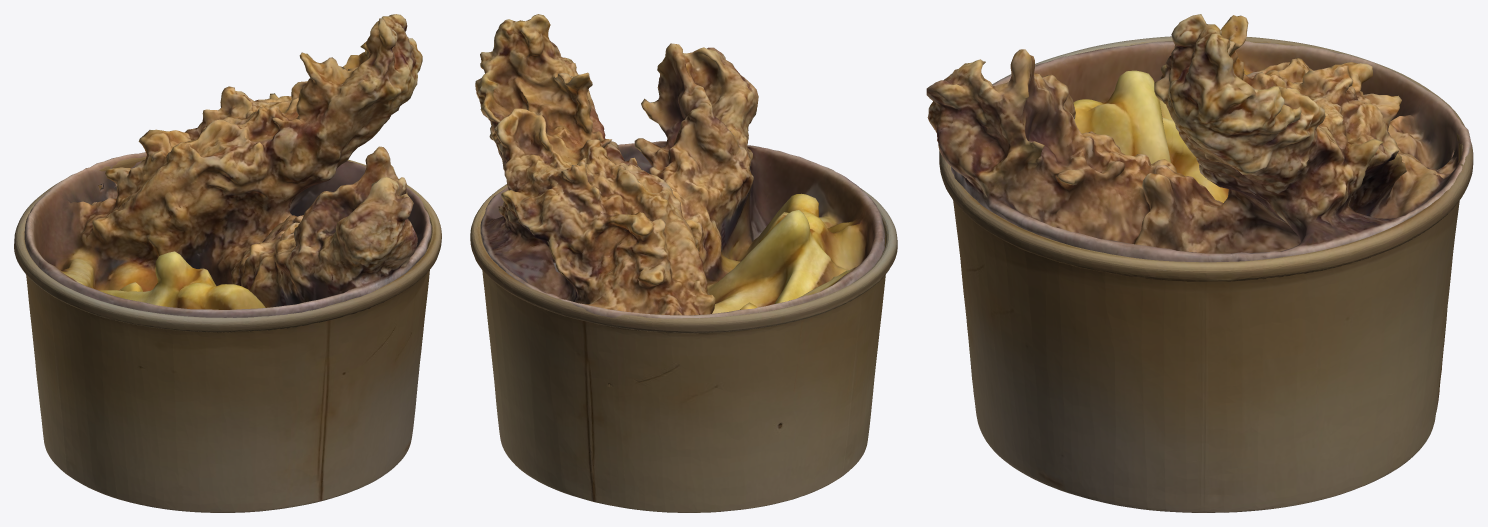
File: strip.bowl.glb
3 views of the same model, side by side, from view 1: azimuth 30°, elevation 25°; view 2: azimuth 150°, elevation 25°; view 3: azimuth 270°, elevation 25° (orthographic). The views are drawn at different scales.
Visible parts, largest first — view 1: world.001, 3DModel.001; view 2: 3DModel.001, world.001; view 3: world.001, 3DModel.001.
Part boxes in pixels (x1,y1,x2,y2): world.001: (14,157,441,512); 3DModel.001: (24,14,431,317); 3DModel.001: (475,14,885,318); world.001: (470,184,897,512); world.001: (939,36,1473,512); 3DModel.001: (926,14,1471,262).
Bounding box in the file's own units: 0.2191 × 0.2097 × 0.2109.
Materials: 2 (2 with a texture image).
